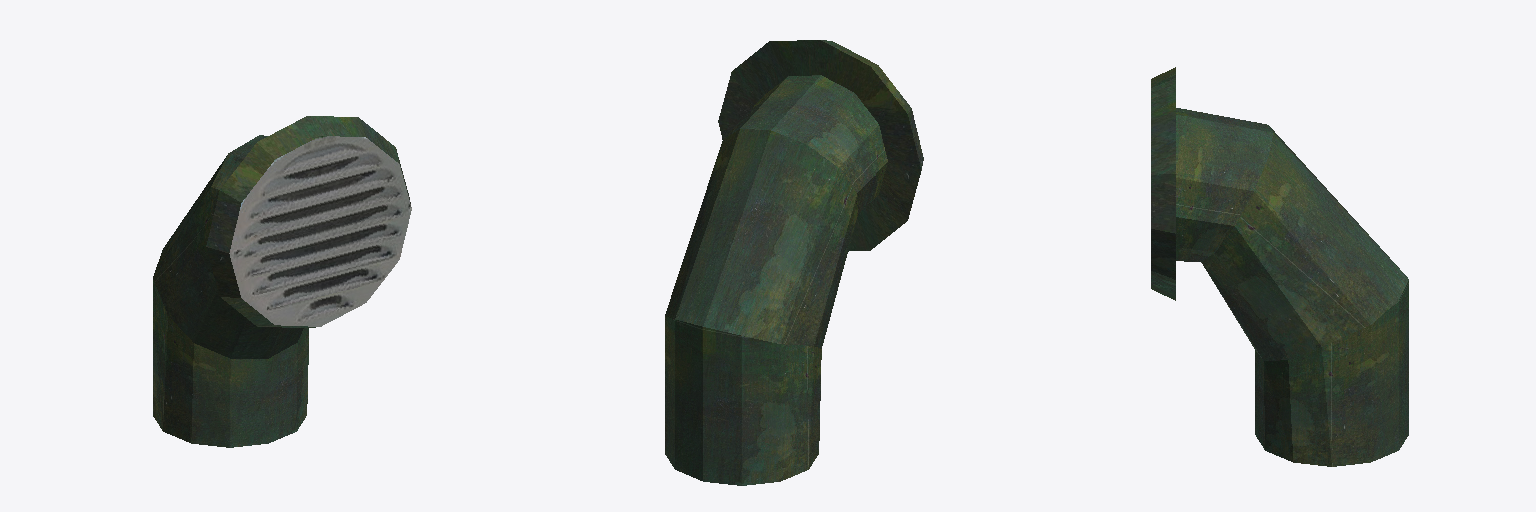
3 renders of one model, left to right at view 1: azimuth 30°, elevation 25°; view 2: azimuth 150°, elevation 25°; view 3: azimuth 270°, elevation 25°, orthographic.
Parts seen in each view (by area): view 1: pipe_2; view 2: pipe_2; view 3: pipe_2.
Boxes of the visible parts, box(x1,y1,x2,y2) form: pipe_2: box(153, 116, 411, 447); pipe_2: box(665, 40, 923, 485); pipe_2: box(1151, 67, 1408, 466).
Bounding box in the file's own units: 0.2438 × 0.4086 × 0.2684.
1 materials, 1 textured.